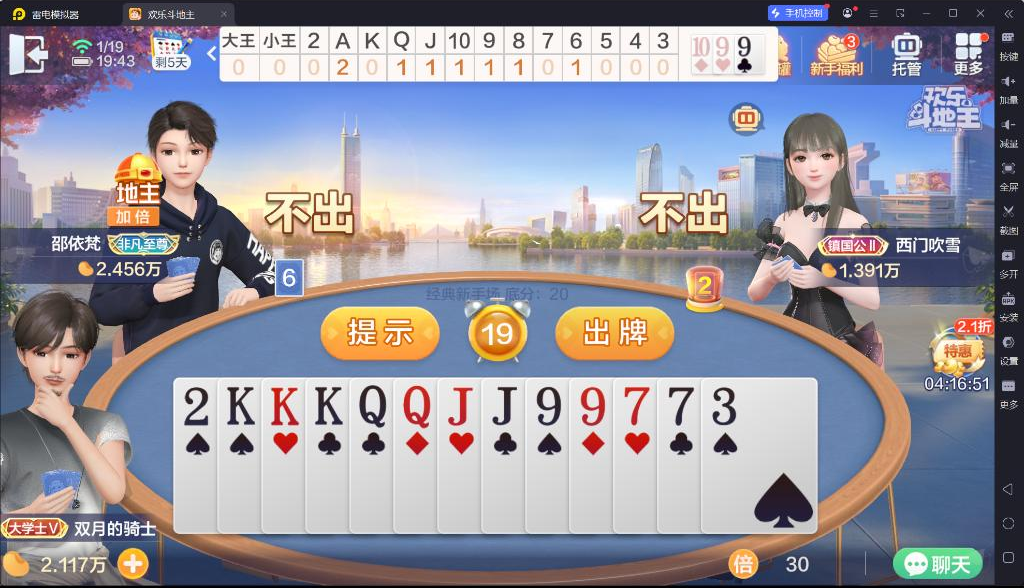J: (490, 384, 520, 427), (446, 384, 475, 427)
K: (311, 384, 347, 428), (268, 384, 302, 427), (225, 384, 258, 427)
Q: (357, 384, 389, 430), (402, 384, 432, 430)
nine: (532, 383, 564, 428), (576, 384, 608, 428), (714, 35, 731, 57), (736, 35, 752, 57)
seven: (621, 382, 653, 428), (666, 382, 696, 429)
ten: (693, 35, 711, 57)
three: (709, 385, 738, 427)
two: (182, 383, 212, 429)
